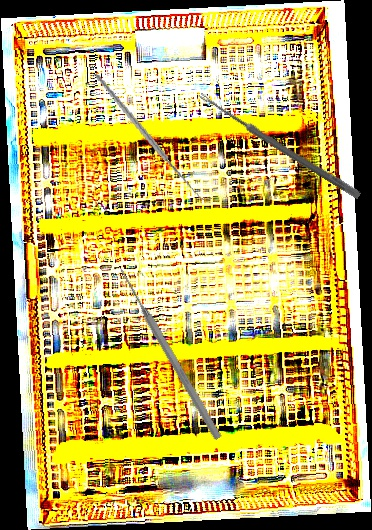Hook Surgical: (93, 57, 212, 216)
Pusher: (115, 264, 224, 442)
Surgical Spoon: (196, 91, 363, 200)
